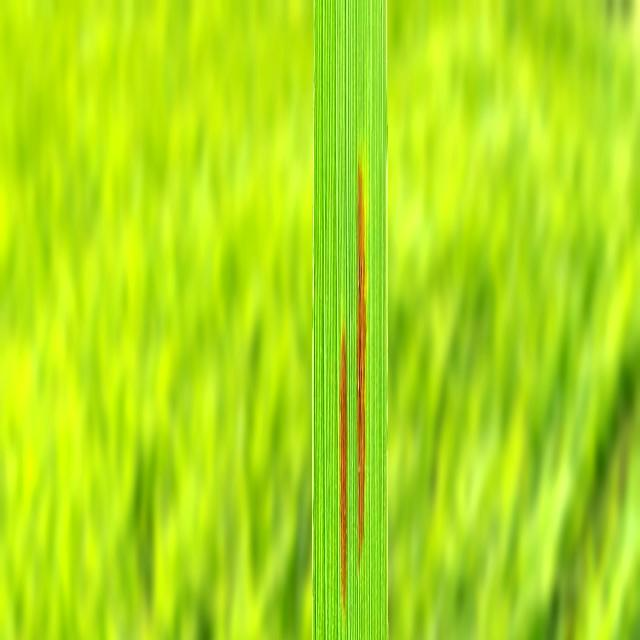NBS: (356, 163, 366, 562), (340, 322, 347, 610)
